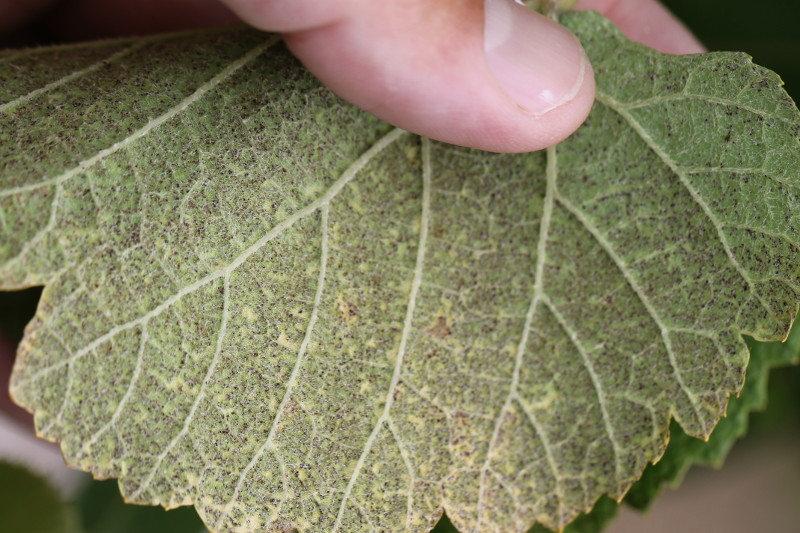downy: (61, 131, 398, 468), (424, 166, 689, 431), (698, 150, 800, 252), (666, 56, 754, 144), (29, 54, 102, 127), (693, 268, 761, 336), (201, 477, 257, 533), (297, 485, 345, 533), (352, 495, 388, 531)
